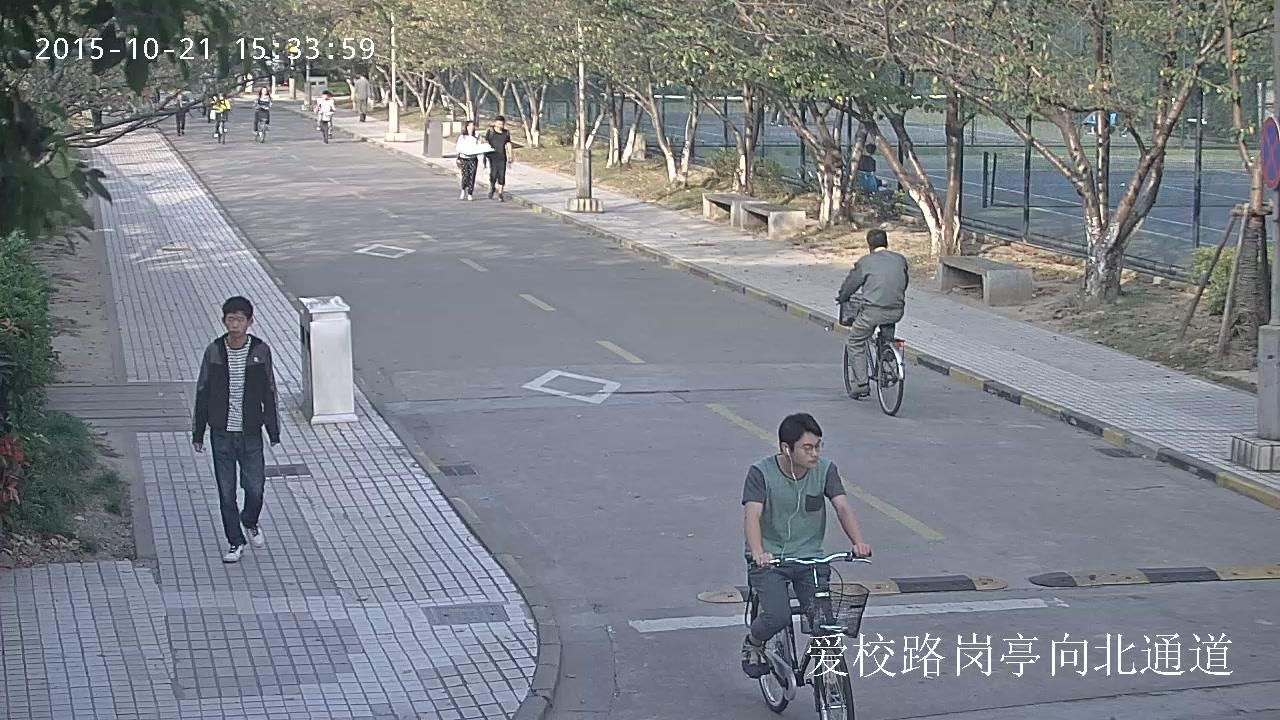face: (791, 431, 821, 468), (224, 311, 247, 335), (496, 120, 503, 128), (467, 122, 474, 130), (261, 87, 266, 93), (324, 94, 329, 98), (177, 94, 181, 99), (213, 96, 217, 100), (218, 93, 221, 97)
